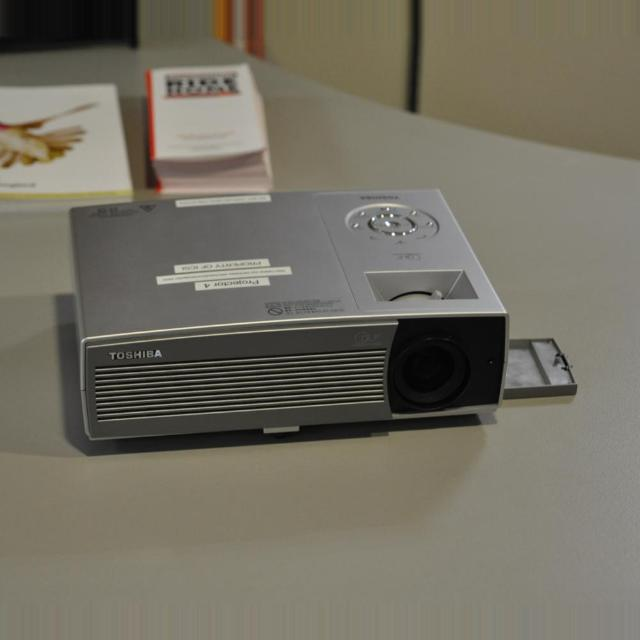Projector: (68, 187, 580, 443)
